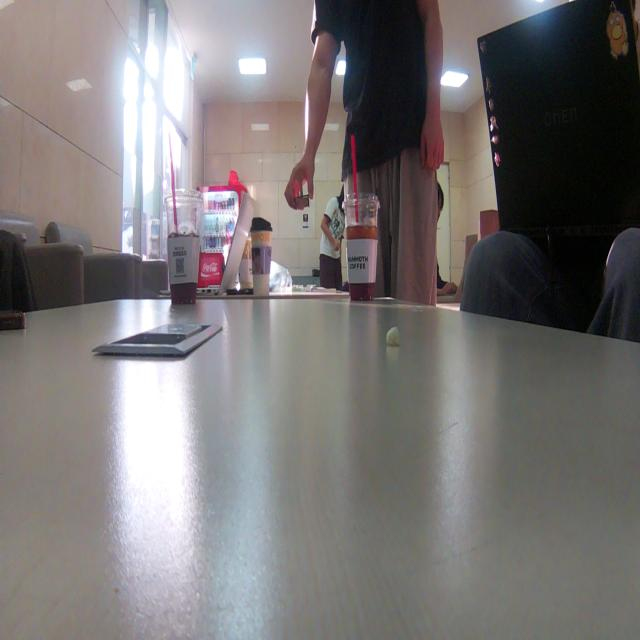target: (294, 165, 310, 209)
